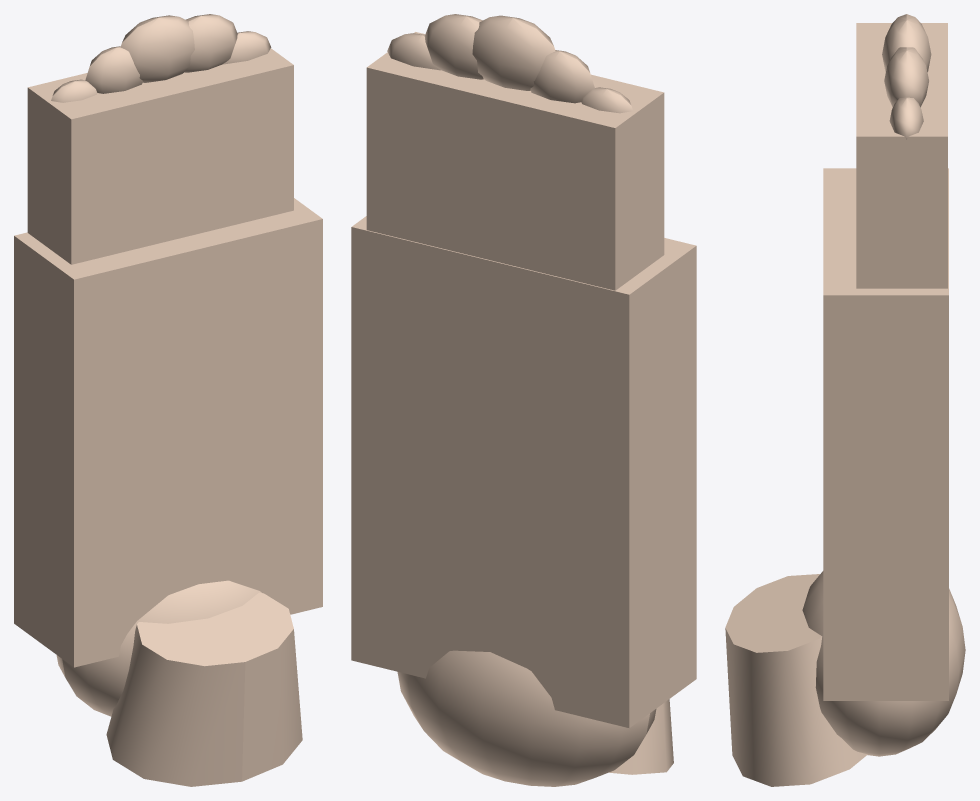
File: foot.glb
The picture shows the model from 3 angles, left to right: view 1: azimuth 30°, elevation 25°; view 2: azimuth 150°, elevation 25°; view 3: azimuth 270°, elevation 25°; orthographic projection. The views are drawn at different scales.
Visible parts, largest first — view 1: Foot; view 2: Foot; view 3: Foot.
Boxes of the visible parts, bbox=[...] form: Foot: bbox=[14, 14, 322, 786]; Foot: bbox=[351, 14, 696, 786]; Foot: bbox=[725, 14, 965, 786].
Bounding box in the file's own units: 100 × 270 × 80.
